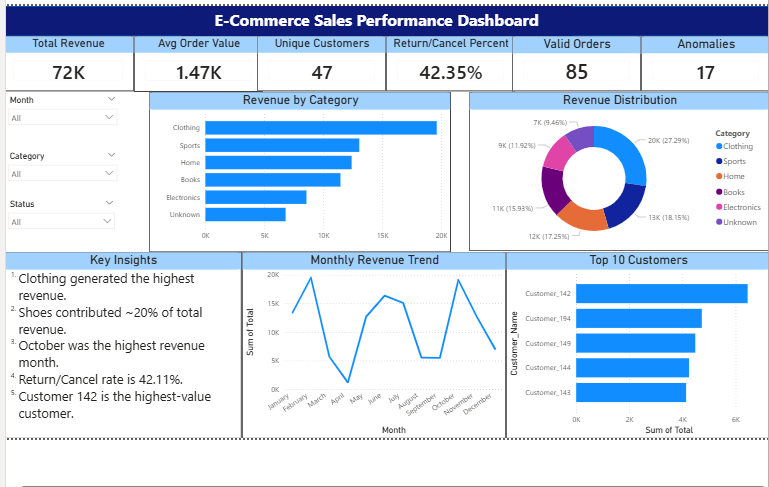

Layout of this report page (visuals, bound fields, positions):
{"tool":"powerbi","page":{"name":"Dashboard","canvas":[1280,720],"ordinal":0},"visuals":[{"type":"shape","box":[0,0,1280,50.4],"z":0,"group":"g1"},{"type":"cardVisual","title":"Total Revenue","fields":{"Data":["Sum(Cleaned_messy_data.Total)"]},"box":[0,50.4,220,92.4],"z":0},{"type":"textbox","box":[299,0,651.8,50.4],"z":1000,"group":"g1"},{"type":"cardVisual","title":"Avg Order Value","fields":{"Data":["Avg(Cleaned_messy_data.Total)"]},"box":[220,50,215,93.3],"z":1000},{"type":"cardVisual","title":"Unique Customers","fields":{"Data":["Count(Cleaned_messy_data.Customer_Name)"]},"box":[425,50.4,215,92.4],"z":2000},{"type":"cardVisual","title":"Return/Cancel Percent","fields":{"Data":["Cleaned_messy_data.Return_percent"]},"box":[640,50.4,215,92.4],"z":3000},{"type":"clusteredBarChart","title":"Revenue by Category","fields":{"Y":["Sum(Cleaned_messy_data.Total)"],"Category":["Cleaned_messy_data.Category"]},"box":[245,143.3,503.3,266.7],"z":4000},{"type":"lineChart","title":"Monthly Revenue Trend","fields":{"Category":["Cleaned_messy_data.Month"],"Y":["Sum(Cleaned_messy_data.Total)"]},"box":[399.8,409.9,440.1,310.8],"z":5000},{"type":"slicer","fields":{"Values":["Cleaned_messy_data.Category"]},"box":[0,236.9,201.6,80.6],"z":6000},{"type":"slicer","fields":{"Values":["Cleaned_messy_data.Status"]},"box":[0,317.5,198.2,92.4],"z":7000},{"type":"slicer","fields":{"Values":["Cleaned_messy_data.Month"]},"box":[0,142.8,201.6,94.1],"z":8000},{"type":"barChart","title":"Top 10 Customers","fields":{"Category":["Cleaned_messy_data.Customer_Name"],"Y":["Sum(Cleaned_messy_data.Total)"]},"box":[839.9,409.9,440.1,310.8],"z":9000},{"type":"textbox","title":"Key Insights","box":[3.4,409.9,396.4,310.8],"z":10000},{"type":"group","id":"g1","title":"Group 1","box":[0,0,1280,50.4],"z":11000},{"type":"cardVisual","title":"Valid Orders","fields":{"Data":["CountNonNull(Cleaned_messy_data.Order_ID)"]},"box":[850,50.4,215,92.4],"z":12000},{"type":"cardVisual","title":"Anomalies","fields":{"Data":["CountNonNull(Cleaned_messy_data.Order_ID)"]},"box":[1065,50.4,215,92.4],"z":13000},{"type":"donutChart","title":"Revenue Distribution","fields":{"Category":["Cleaned_messy_data.Category"],"Y":["Sum(Cleaned_messy_data.Total)"]},"box":[778.3,143.3,501.7,265],"z":14000}]}

Visuals, with their boxes in screenshot pixels (x1, y1, x2, y2):
shape: l=4, t=4, r=762, b=34
"Total Revenue" cardVisual: l=4, t=34, r=134, b=89
textbox: l=181, t=4, r=567, b=34
"Avg Order Value" cardVisual: l=134, t=34, r=262, b=89
"Unique Customers" cardVisual: l=256, t=34, r=383, b=89
"Return/Cancel Percent" cardVisual: l=383, t=34, r=511, b=89
"Revenue by Category" clusteredBarChart: l=149, t=89, r=447, b=247
"Monthly Revenue Trend" lineChart: l=241, t=247, r=502, b=431
slicer - Cleaned_messy_data.Category: l=4, t=144, r=123, b=192
slicer - Cleaned_messy_data.Status: l=4, t=192, r=121, b=247
slicer - Cleaned_messy_data.Month: l=4, t=89, r=123, b=144
"Top 10 Customers" barChart: l=502, t=247, r=762, b=431
"Key Insights" textbox: l=6, t=247, r=241, b=431
"Group 1" group: l=4, t=4, r=762, b=34
"Valid Orders" cardVisual: l=508, t=34, r=635, b=89
"Anomalies" cardVisual: l=635, t=34, r=762, b=89
"Revenue Distribution" donutChart: l=465, t=89, r=762, b=246
